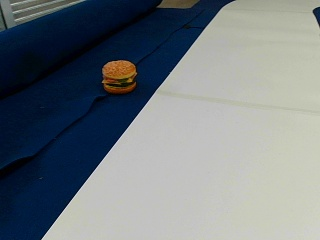burger: (101, 59, 137, 92)
